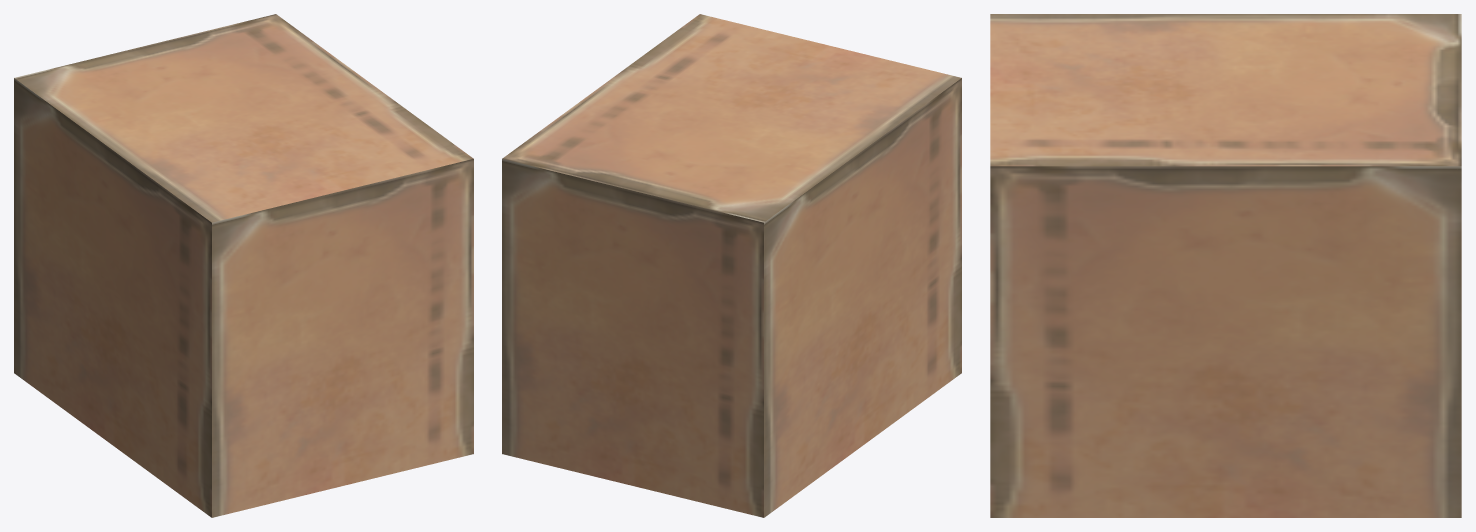
File: Obstacle_Small.fbx
3 views of the same model, side by side, from view 1: azimuth 30°, elevation 25°; view 2: azimuth 150°, elevation 25°; view 3: azimuth 270°, elevation 25° (orthographic). The views are drawn at different scales.
Parts seen in each view (by area): view 1: Obstacle_Small; view 2: Obstacle_Small; view 3: Obstacle_Small.
Boxes of the visible parts, x1,y1,x2,y2 form: Obstacle_Small: [14, 14, 473, 517]; Obstacle_Small: [502, 14, 961, 517]; Obstacle_Small: [990, 14, 1461, 517].
Size of the model in its own units: 130 by 140 by 170.
